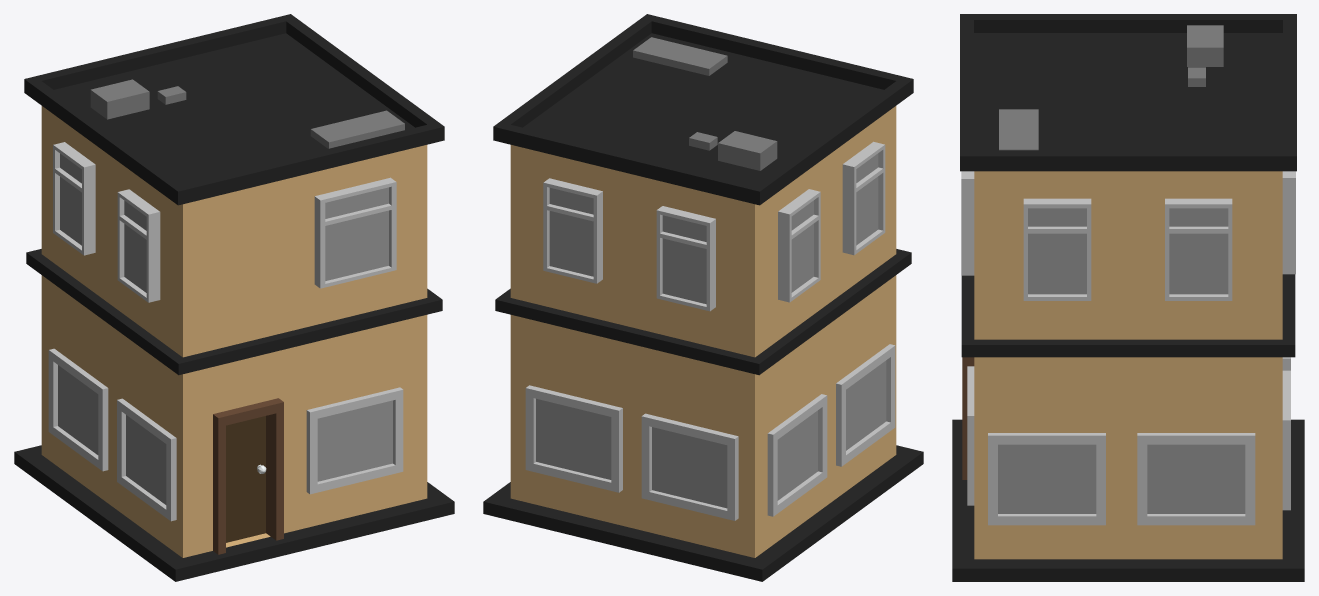
Rendered from buildings.fbx.
The picture shows the model from 3 angles, left to right: view 1: azimuth 30°, elevation 25°; view 2: azimuth 150°, elevation 25°; view 3: azimuth 270°, elevation 25°; orthographic projection. The views are drawn at different scales.
Visible parts, largest first — view 1: Cube; view 2: Cube; view 3: Cube.
Boxes of the visible parts, x1,y1,x2,y2 form: Cube: (14, 14, 454, 581); Cube: (483, 14, 923, 581); Cube: (952, 14, 1304, 581).
Size of the model in its own units: 597 by 802 by 597.
